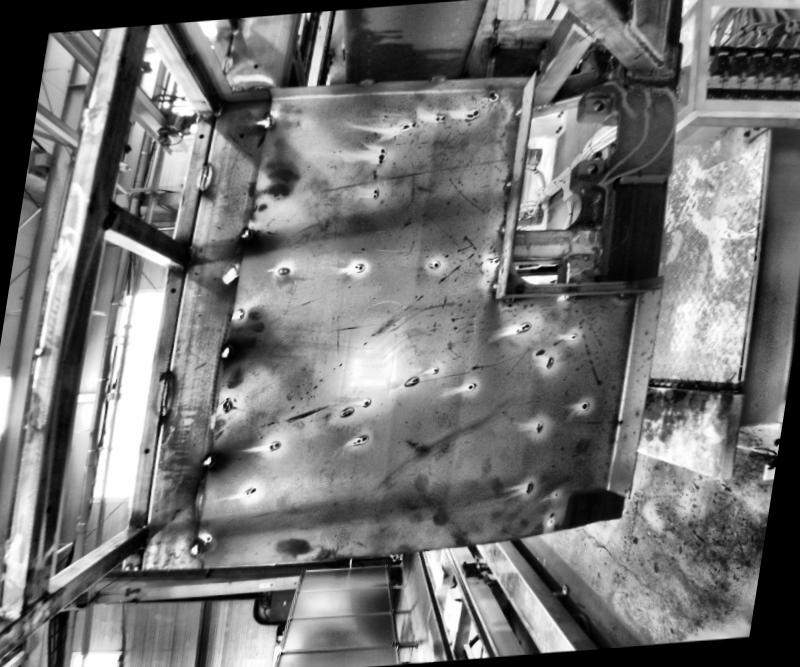hole: (585, 160, 600, 175), (590, 98, 606, 112), (170, 284, 178, 292), (108, 210, 114, 217), (184, 252, 191, 258), (142, 532, 147, 540), (488, 90, 494, 96), (253, 62, 259, 67), (144, 447, 150, 452), (239, 131, 244, 136), (200, 132, 205, 136)
welding: (622, 23, 666, 64), (572, 12, 599, 39), (160, 371, 174, 421), (201, 447, 220, 470), (220, 51, 236, 76), (238, 224, 256, 244), (197, 159, 209, 188), (263, 112, 277, 130), (107, 200, 117, 225), (428, 70, 446, 82), (138, 526, 148, 546), (184, 246, 194, 266), (512, 102, 526, 116), (220, 344, 234, 358), (189, 539, 203, 553), (560, 292, 582, 298), (359, 77, 373, 84), (506, 175, 514, 186), (492, 278, 499, 290), (620, 292, 632, 297), (505, 295, 515, 300), (501, 223, 506, 231)
